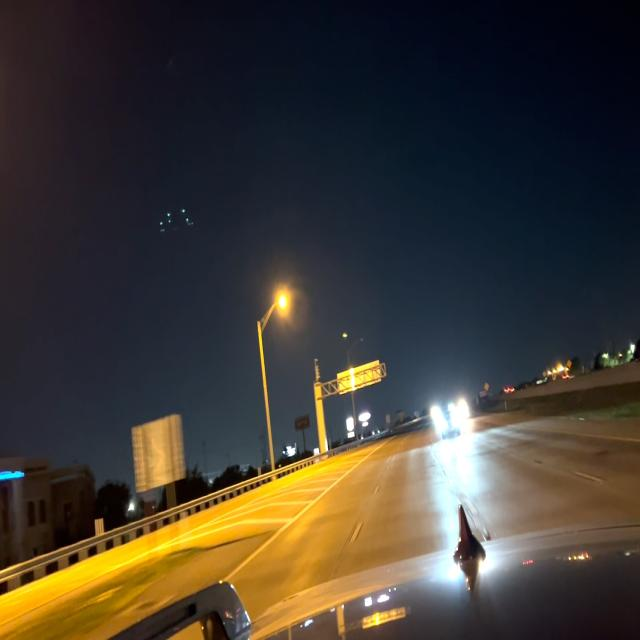back-of-sign: (129, 412, 186, 492)
